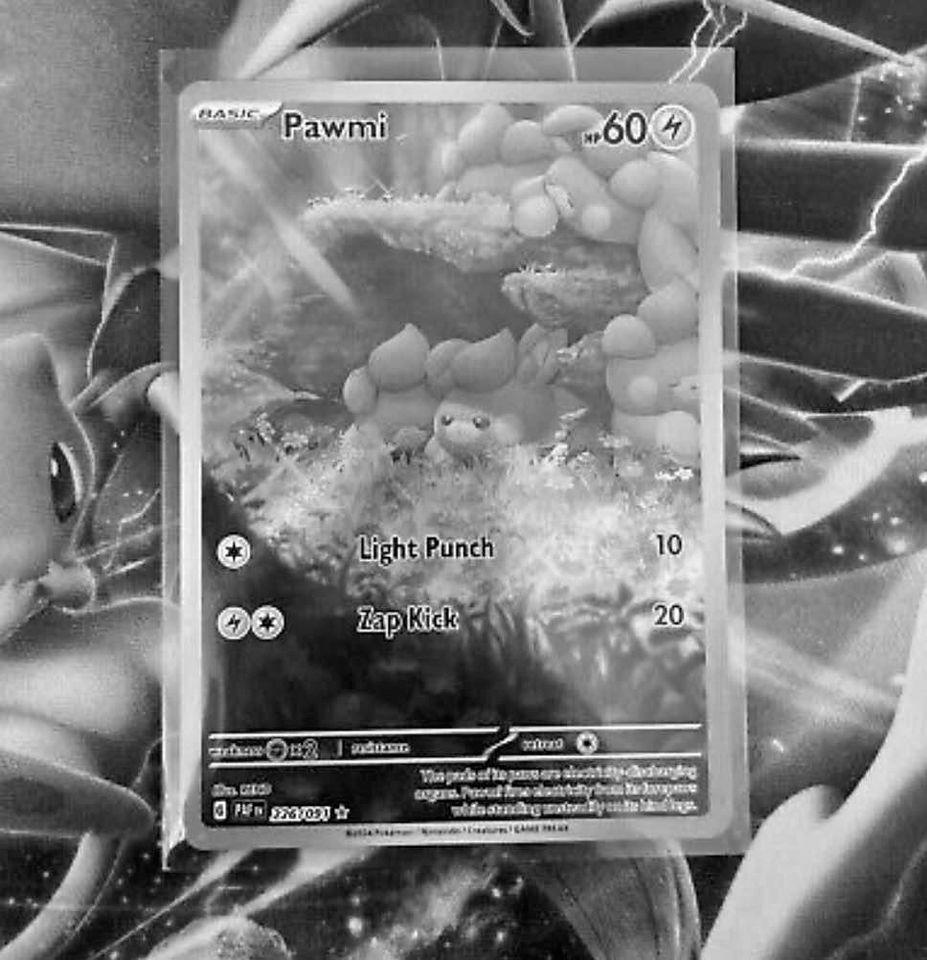card: (176, 80, 735, 850)
